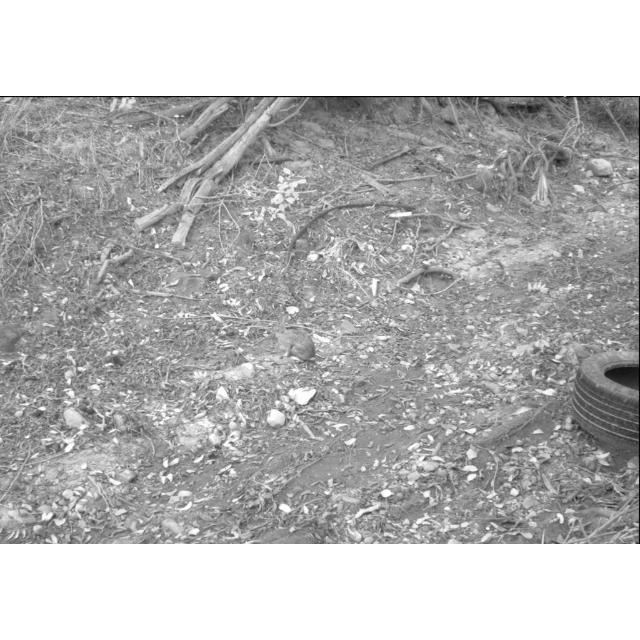animals: (278, 328, 316, 368)
